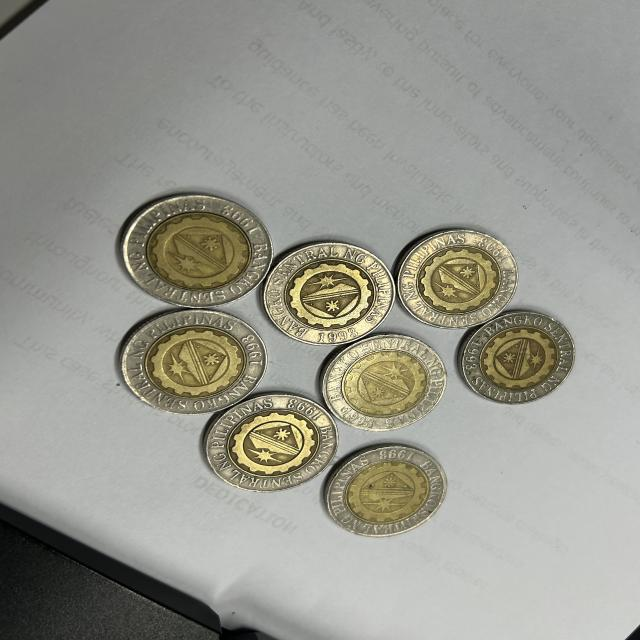10_Old_Back: (122, 195, 266, 299), (124, 309, 266, 412), (275, 244, 391, 339), (219, 400, 333, 487), (466, 312, 572, 404), (327, 340, 434, 431), (404, 232, 504, 324), (340, 453, 446, 532)
